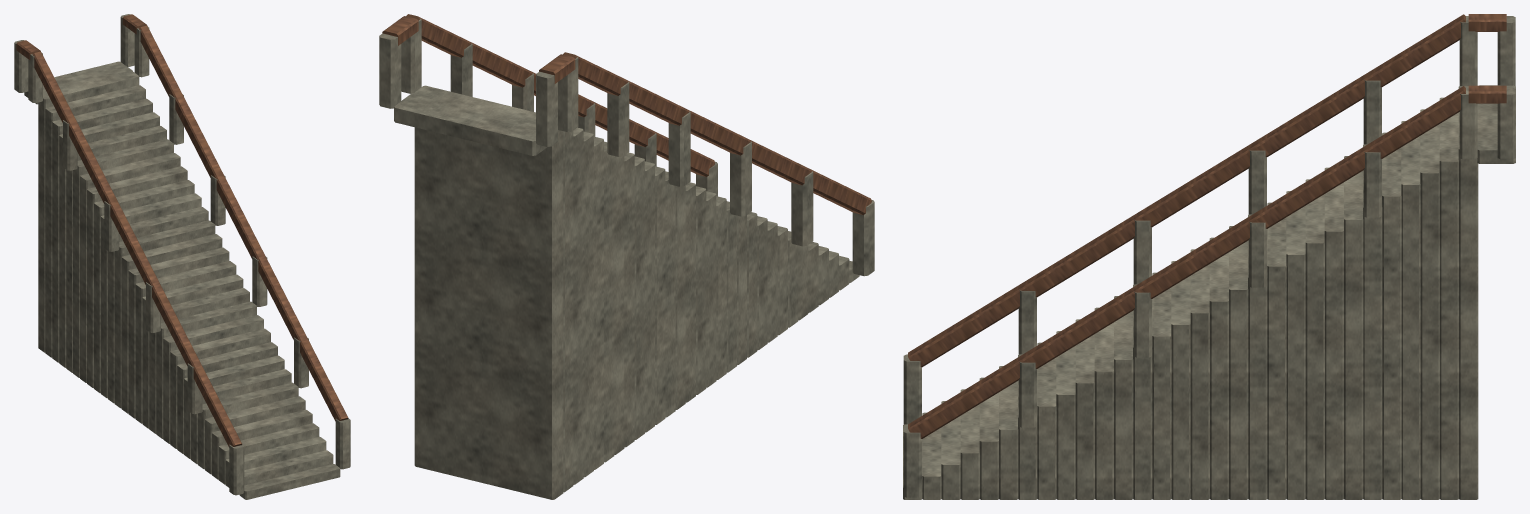
File: wall_stair.glb
The picture shows the model from 3 angles, left to right: view 1: azimuth 30°, elevation 25°; view 2: azimuth 150°, elevation 25°; view 3: azimuth 270°, elevation 25°; orthographic projection. The views are drawn at different scales.
Parts seen in each view (by area): view 1: Wall Stair; view 2: Wall Stair; view 3: Wall Stair.
Boxes of the visible parts, bbox=[...] form: Wall Stair: bbox=[14, 14, 350, 499]; Wall Stair: bbox=[379, 14, 874, 499]; Wall Stair: bbox=[903, 14, 1515, 499].
Size of the model in its own units: 2.47 by 6.06 by 8.09.
Materials: 2 (2 with a texture image).
